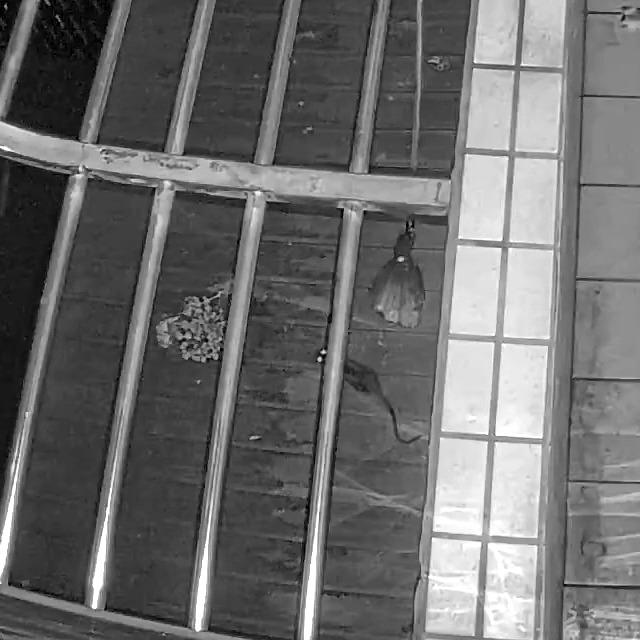rat: (314, 348, 423, 446)
